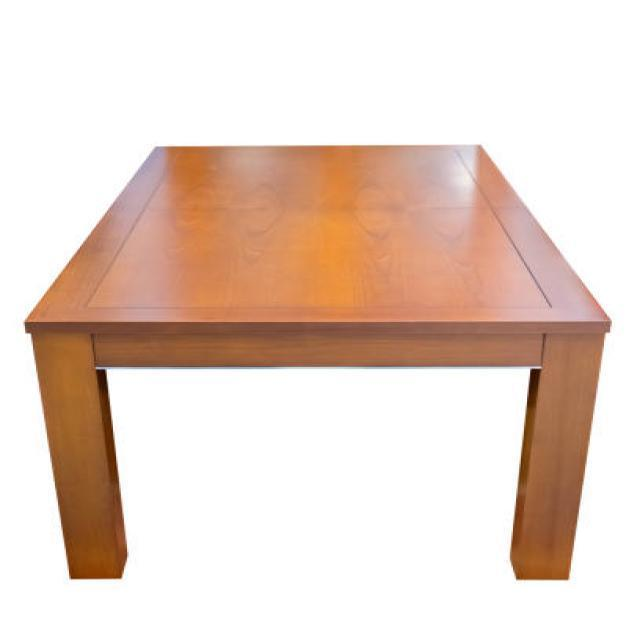table: (22, 144, 612, 580)
